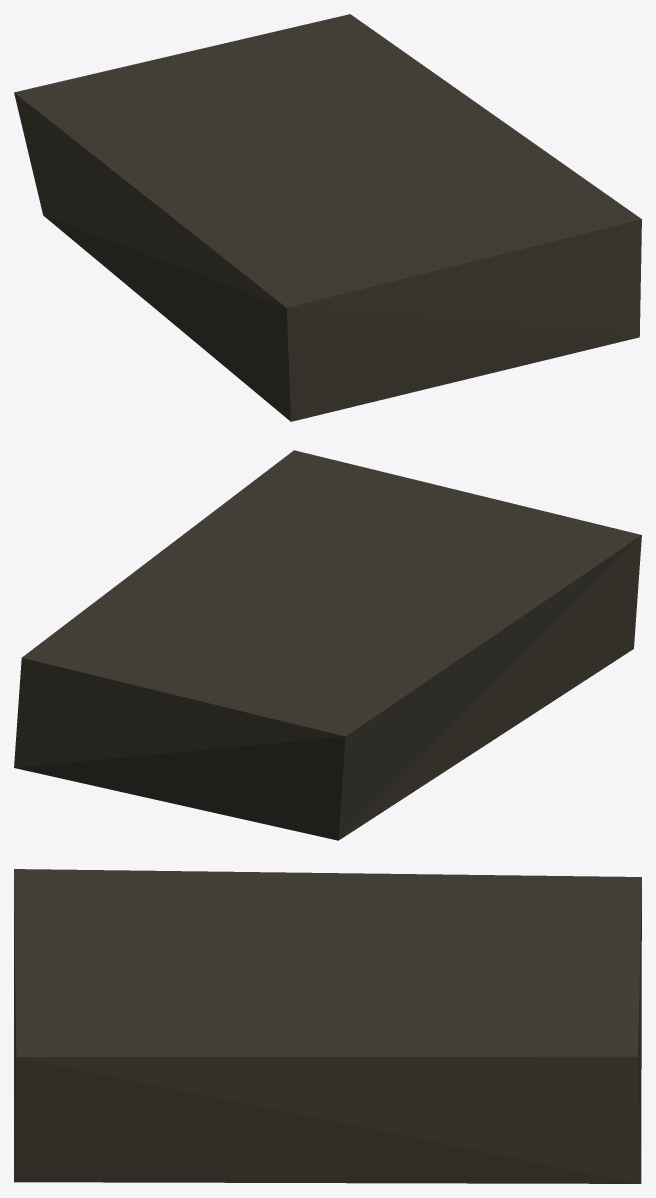
Rendered from Brick_Single_4_LOD.fbx.
3 views of the same model, one above another, from view 1: azimuth 30°, elevation 25°; view 2: azimuth 150°, elevation 25°; view 3: azimuth 270°, elevation 25° (orthographic). The views are drawn at different scales.
Visible parts, largest first — view 1: Group32230; view 2: Group32230; view 3: Group32230.
Boxes of the visible parts, x1,y1,x2,y2 form: Group32230: (14, 14, 641, 421); Group32230: (14, 450, 641, 840); Group32230: (14, 869, 641, 1183).
Bounding box in the file's own units: 1.3 × 0.4179 × 1.82.
